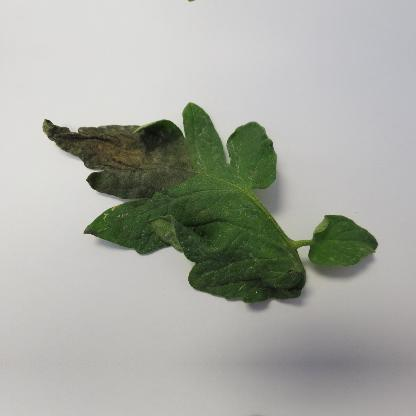Late-Blight: (35, 93, 385, 335)
